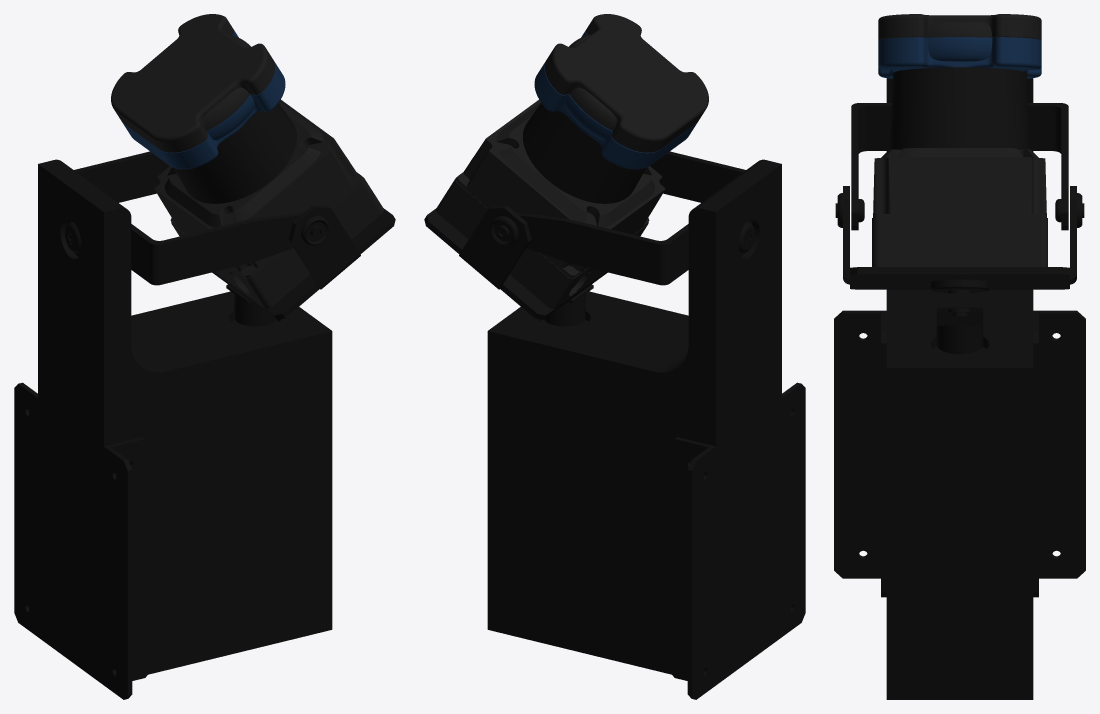
File: gim30.dae
The picture shows the model from 3 angles, left to right: view 1: azimuth 30°, elevation 25°; view 2: azimuth 150°, elevation 25°; view 3: azimuth 270°, elevation 25°; orthographic projection. The views are drawn at different scales.
Visible parts, largest first — view 1: Gim30_Base, Gim30_Lrf; view 2: Gim30_Base, Gim30_Lrf; view 3: Gim30_Base, Gim30_Lrf.
Boxes of the visible parts, bbox=[...] form: Gim30_Base: bbox=[14, 151, 395, 699]; Gim30_Lrf: bbox=[111, 14, 383, 308]; Gim30_Base: bbox=[424, 151, 805, 699]; Gim30_Lrf: bbox=[436, 14, 708, 308]; Gim30_Base: bbox=[834, 78, 1085, 699]; Gim30_Lrf: bbox=[872, 14, 1047, 266].
Size of the model in its own units: 0.122 by 0.086 by 0.2465.
2 materials, 1 textured.
